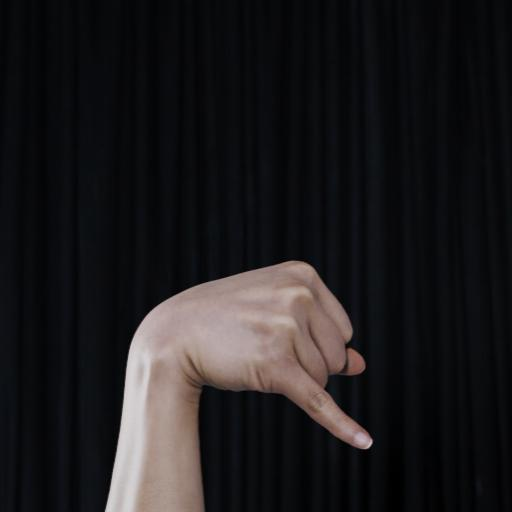J: (116, 256, 384, 469)
